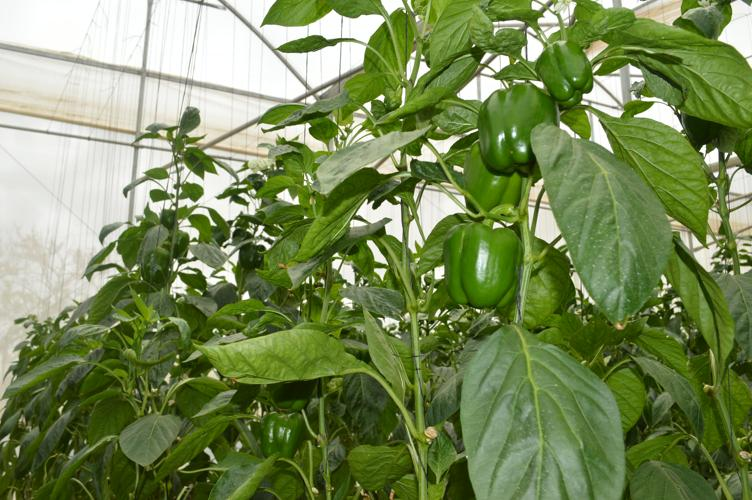BellPepper: (479, 86, 555, 171), (448, 223, 517, 313), (460, 138, 523, 210), (536, 41, 593, 104), (254, 413, 302, 464), (271, 378, 310, 415)
